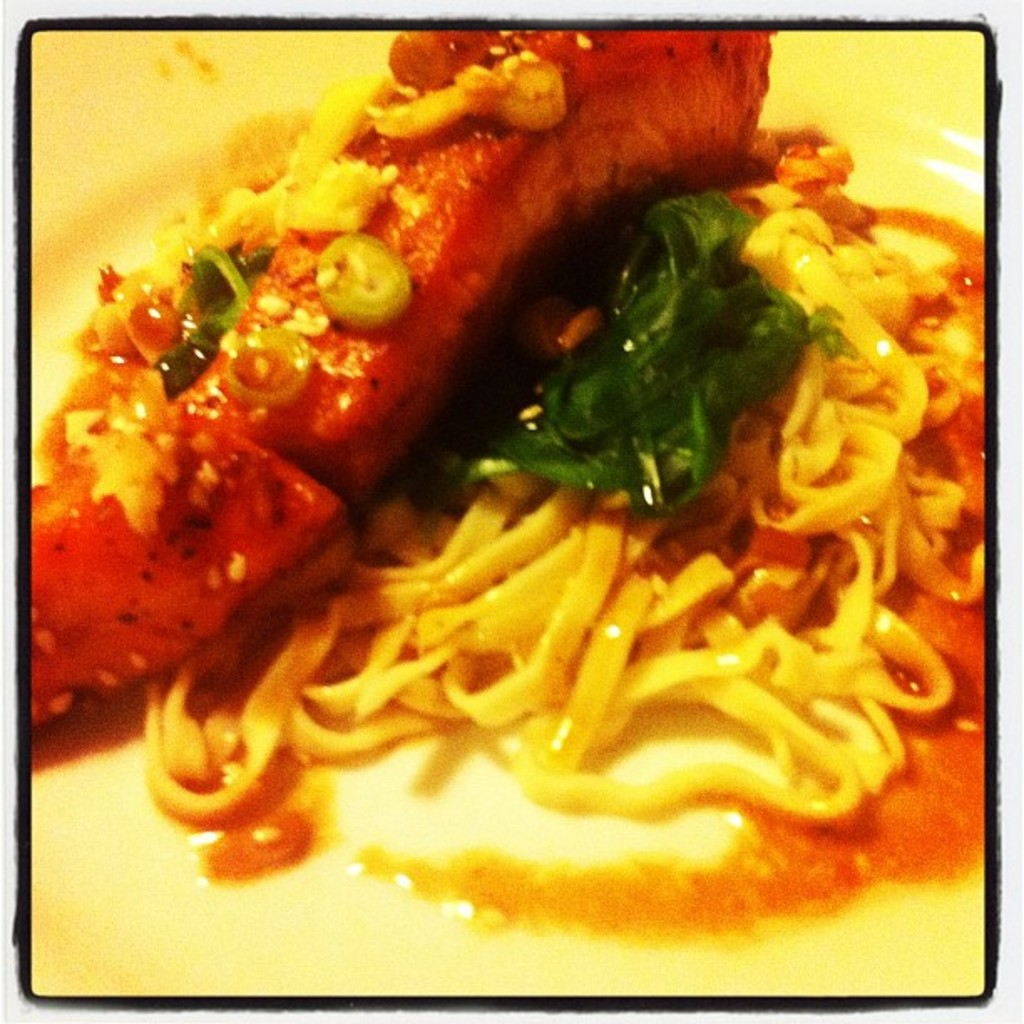pasta: (146, 134, 991, 833)
